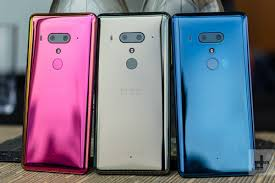htc: (170, 9, 257, 178), (93, 8, 172, 174), (25, 10, 96, 175)
